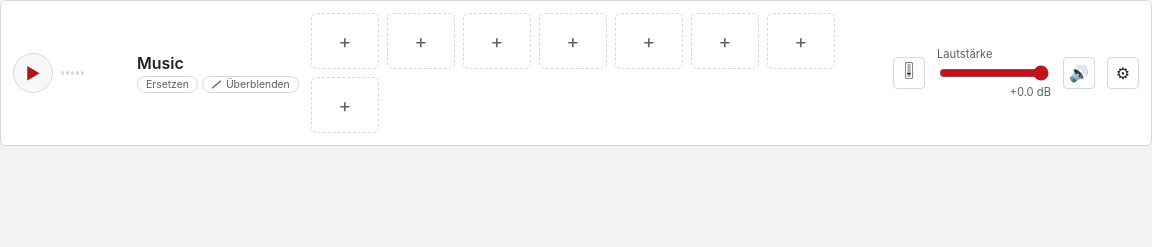
Test: M15-S14 ChannelRow › balance + 3-band EQ — collapsed behind a toggle button › are hidden until the mixer-toggle button is clicked
expect the field labelled "Balance" is not shown: met
Click the button named "Balance & EQ" at (909,73), box [893,57,925,89]
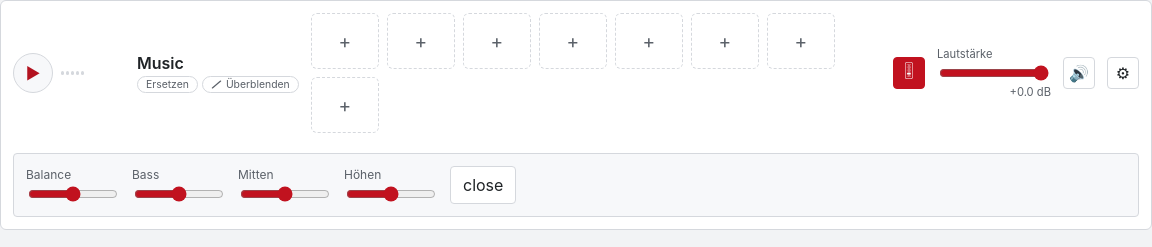
expect the slider labelled "Balance" is shown: met, box [28,186,118,202]
